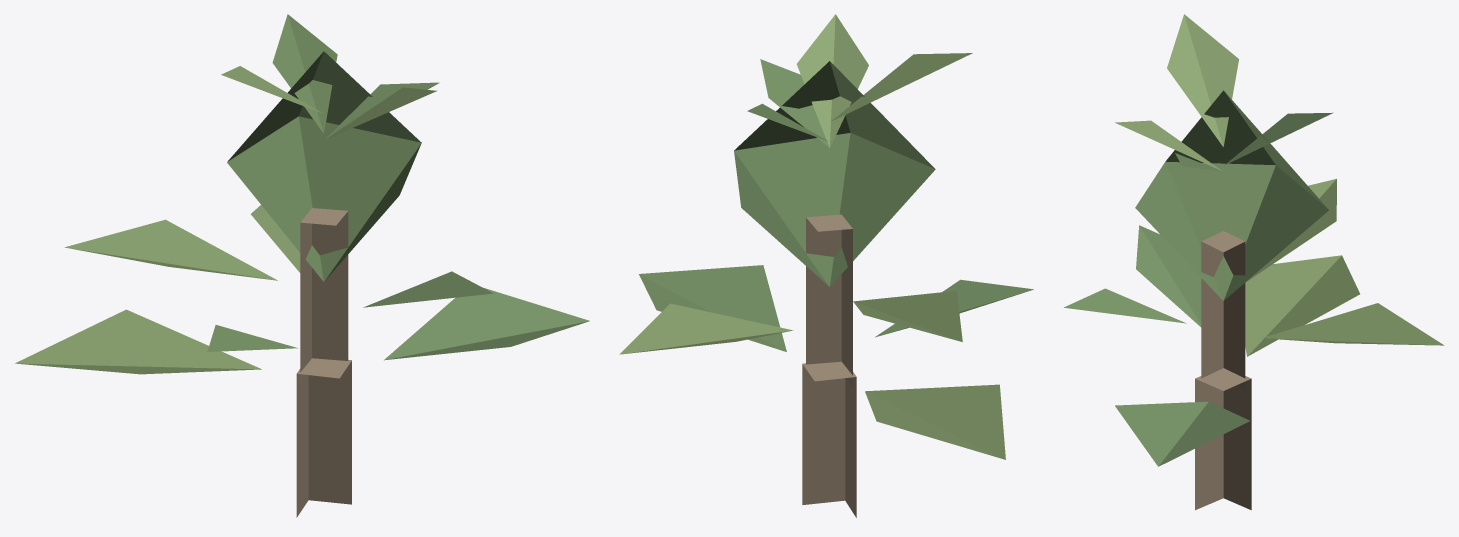
File: shu.yinxing@seedling__summer.glb
The picture shows the model from 3 angles, left to right: view 1: azimuth 30°, elevation 25°; view 2: azimuth 150°, elevation 25°; view 3: azimuth 270°, elevation 25°; orthographic projection. The views are drawn at different scales.
Parts seen in each view (by area): view 1: shu.yinxing@seedling__summer; view 2: shu.yinxing@seedling__summer; view 3: shu.yinxing@seedling__summer.
Part boxes in pixels (x1,y1,x2,y2): shu.yinxing@seedling__summer: [15, 14, 589, 517]; shu.yinxing@seedling__summer: [619, 14, 1033, 517]; shu.yinxing@seedling__summer: [1064, 14, 1444, 510].
Size of the model in its own units: 1.45 by 1.41 by 1.11.
